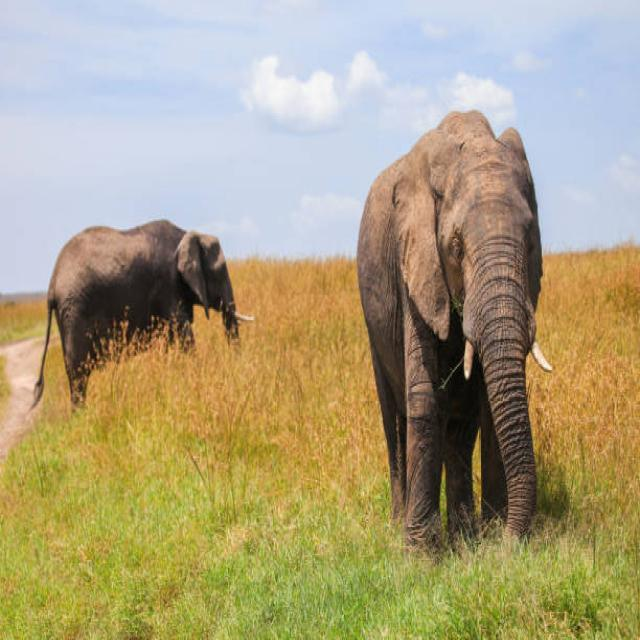Elephant: (335, 59, 587, 600), (34, 191, 257, 441)
